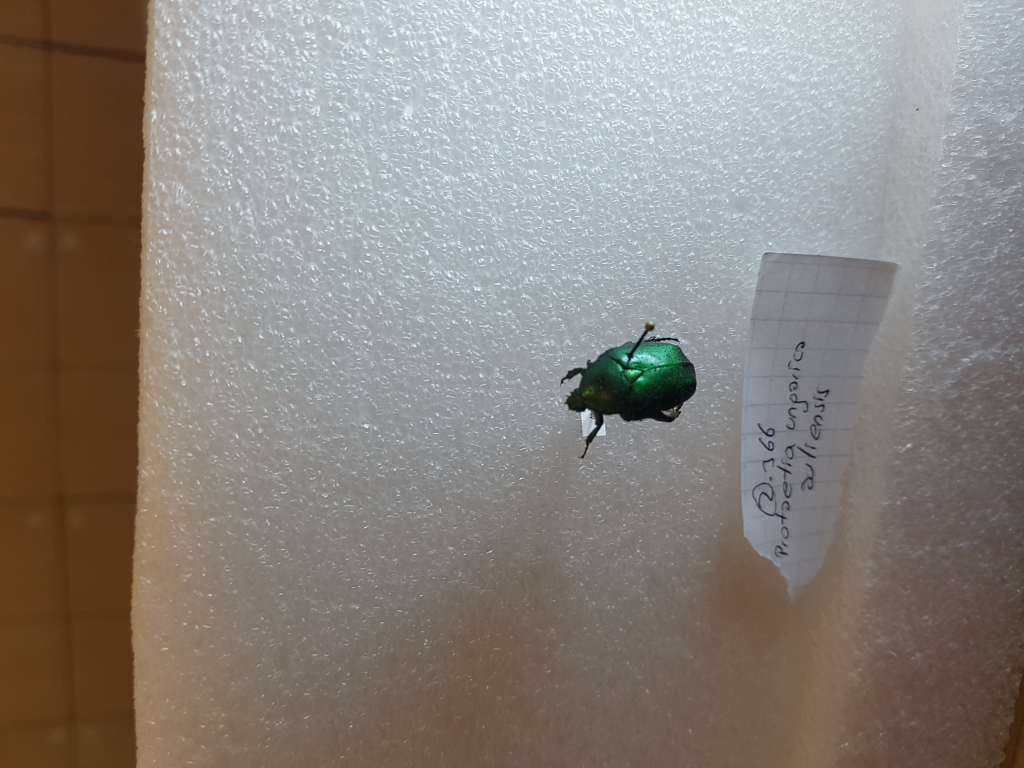Protaetia_ungarica_americana: (553, 321, 706, 466)
